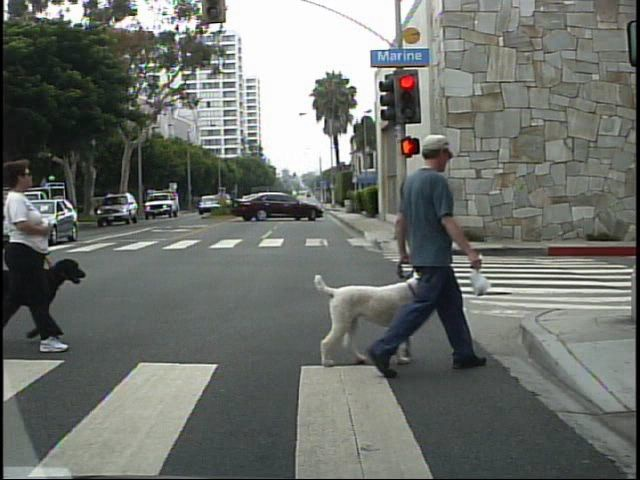person: (368, 111, 491, 376), (7, 152, 72, 356)
